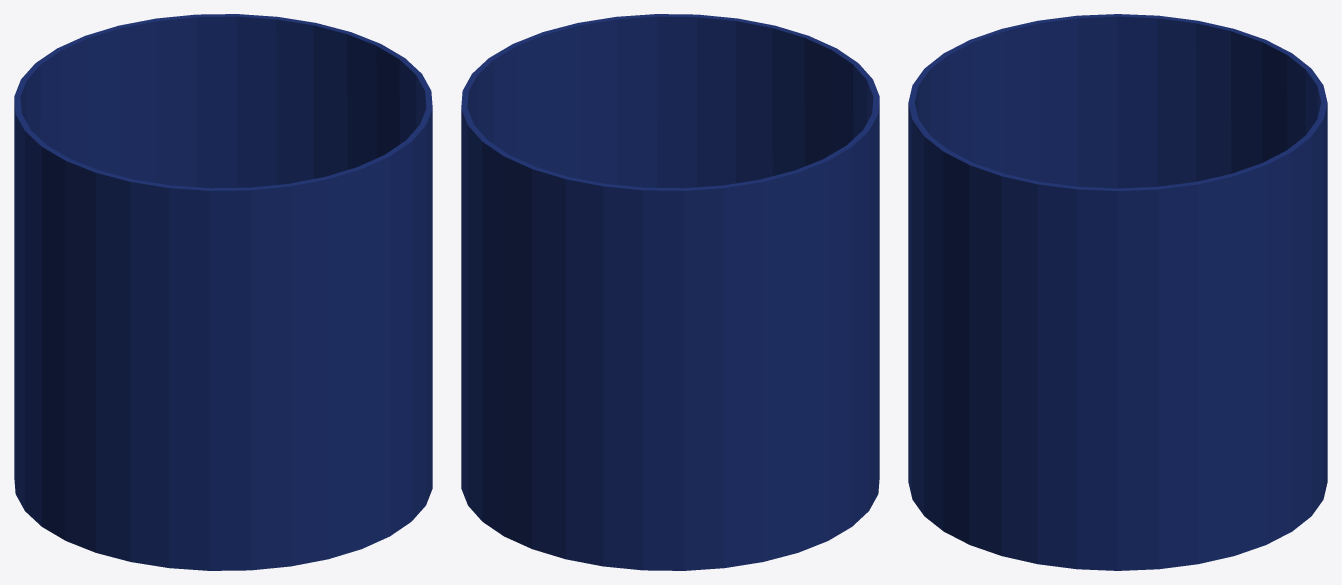
The model's file is Gelas.fbx.
3 views of the same model, side by side, from view 1: azimuth 30°, elevation 25°; view 2: azimuth 150°, elevation 25°; view 3: azimuth 270°, elevation 25° (orthographic).
Parts seen in each view (by area): view 1: Cylinder; view 2: Cylinder; view 3: Cylinder.
Boxes of the visible parts, x1,y1,x2,y2 form: Cylinder: [14, 14, 432, 570]; Cylinder: [461, 14, 879, 570]; Cylinder: [908, 14, 1327, 570].
Size of the model in its own units: 1 by 1 by 1.
